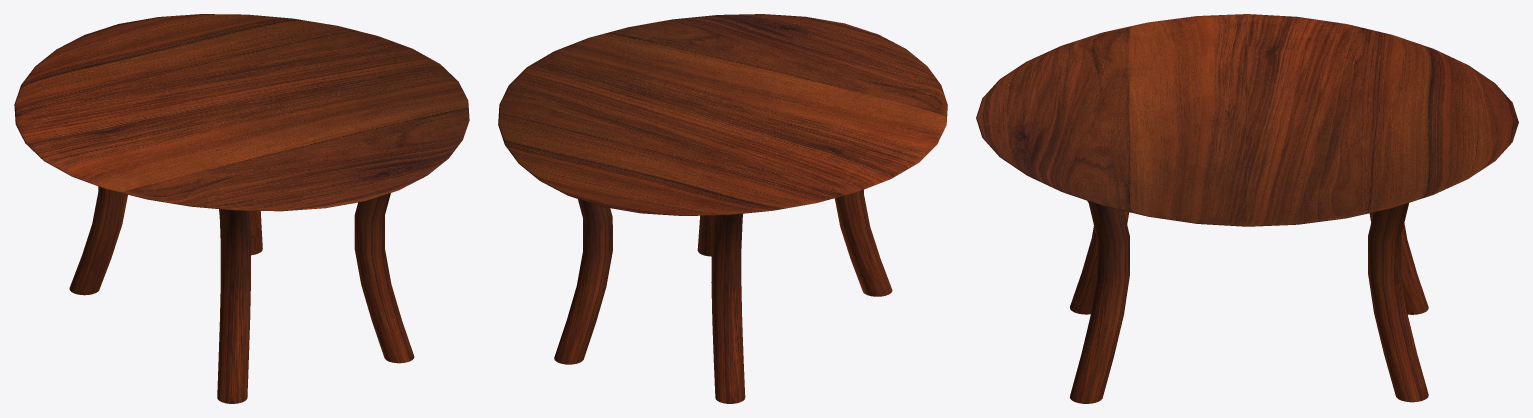
The model's file is round_table.FBX.
The picture shows the model from 3 angles, left to right: view 1: azimuth 30°, elevation 25°; view 2: azimuth 150°, elevation 25°; view 3: azimuth 270°, elevation 25°; orthographic projection. The views are drawn at different scales.
Visible parts, largest first — view 1: Cone001, Cone006, Cone005, Cone004, Cone003; view 2: Cone001, Cone004, Cone003, Cone006, Cone005; view 3: Cone001, Cone005, Cone003, Cone004, Cone006.
Boxes of the visible parts, <box> form: Cone001: <box>14,14,469,211</box>; Cone006: <box>217,209,250,403</box>; Cone005: <box>354,193,414,363</box>; Cone004: <box>69,186,127,295</box>; Cone003: <box>249,211,262,255</box>; Cone001: <box>498,14,947,215</box>; Cone004: <box>711,213,745,403</box>; Cone003: <box>554,199,612,364</box>; Cone006: <box>834,189,892,296</box>; Cone005: <box>697,215,712,256</box>; Cone001: <box>976,14,1518,226</box>; Cone005: <box>1070,201,1129,403</box>; Cone003: <box>1368,203,1428,402</box>; Cone004: <box>1369,212,1428,314</box>; Cone006: <box>1070,211,1129,314</box>.
Bounding box in the file's own units: 30.23 × 15.67 × 32.64.
1 material, 1 textured.
